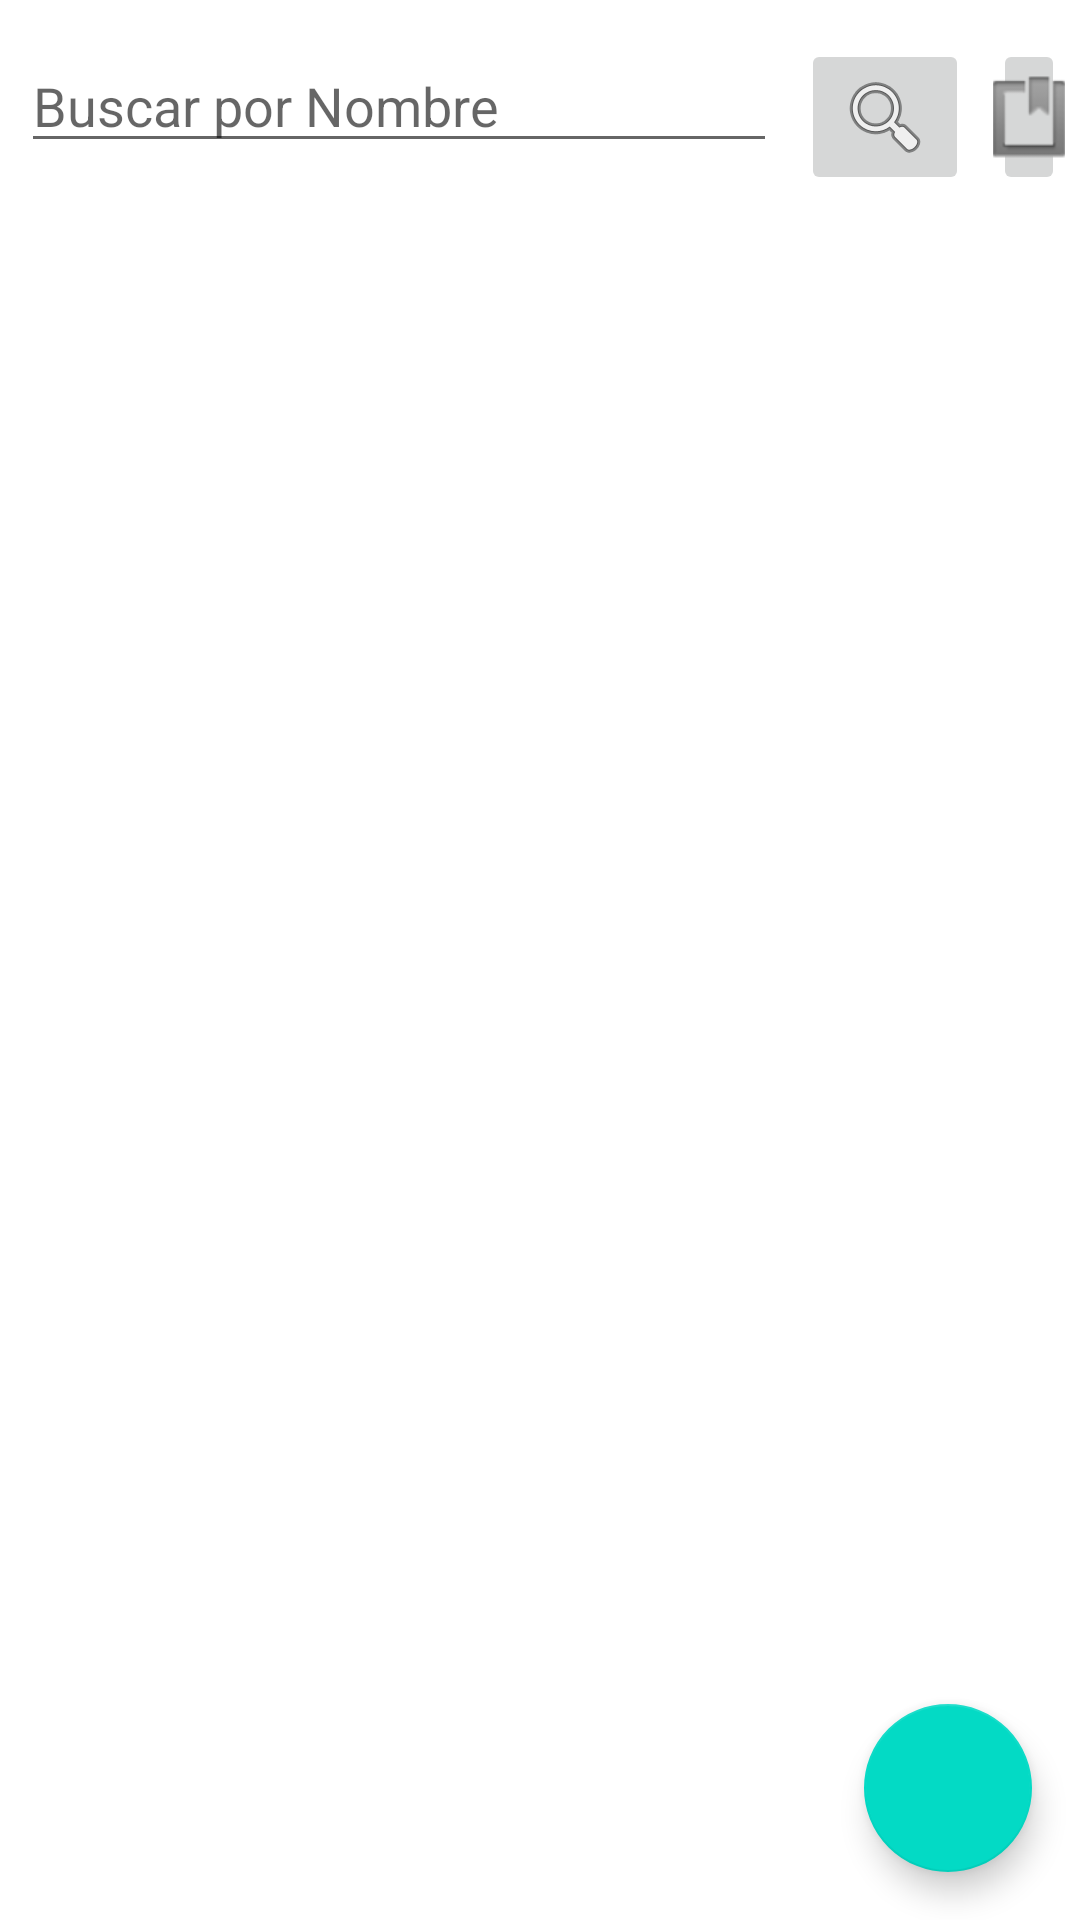

Icon click points for this 1080px×1920px phone screenshot, format point (x, y):
search: point (885, 117)
